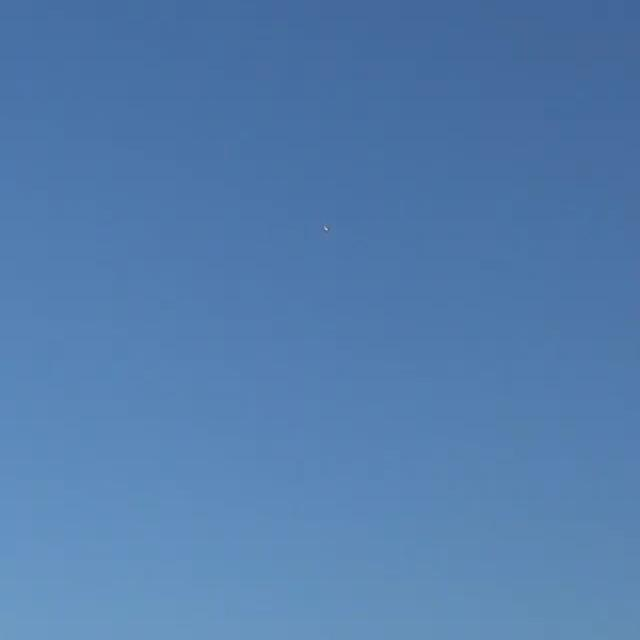AirPlane: (314, 213, 336, 244)
